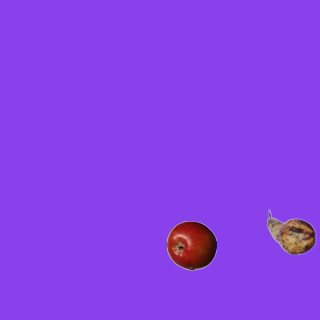Apple Braeburn: (166, 220, 216, 270)
Pear Abate: (266, 207, 316, 257)
